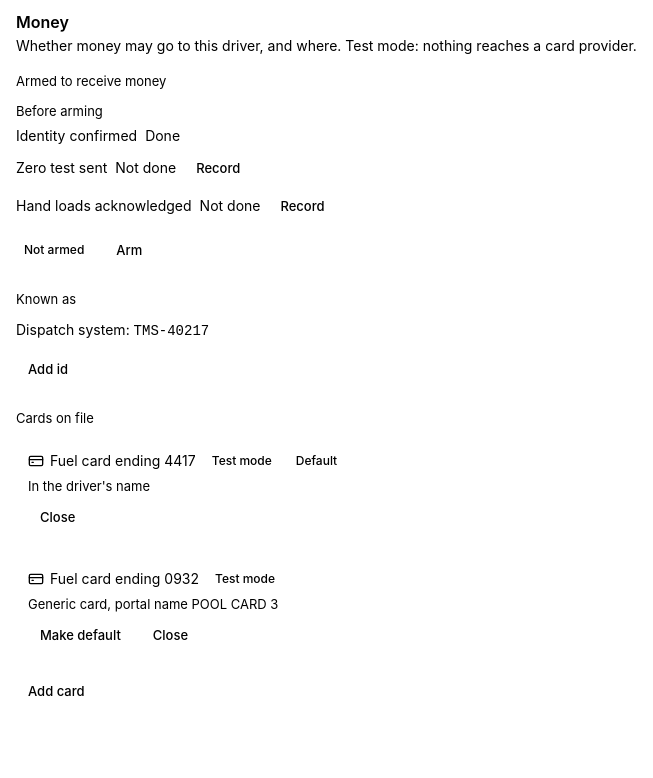
Test: DriverMoneyPanel › before arming › records a step through its route, then says so and lets the page read again
Click the button "Record" in the row of "Zero test sent" at (218, 168), box [184,152,252,184]
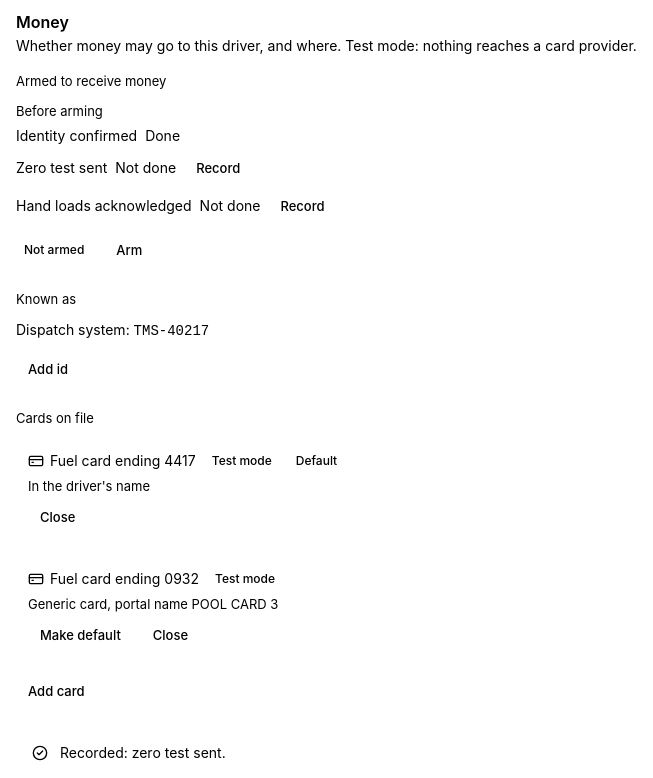
Expected: the text "Recorded: zero test sent." is shown, [60,744,226,761]
